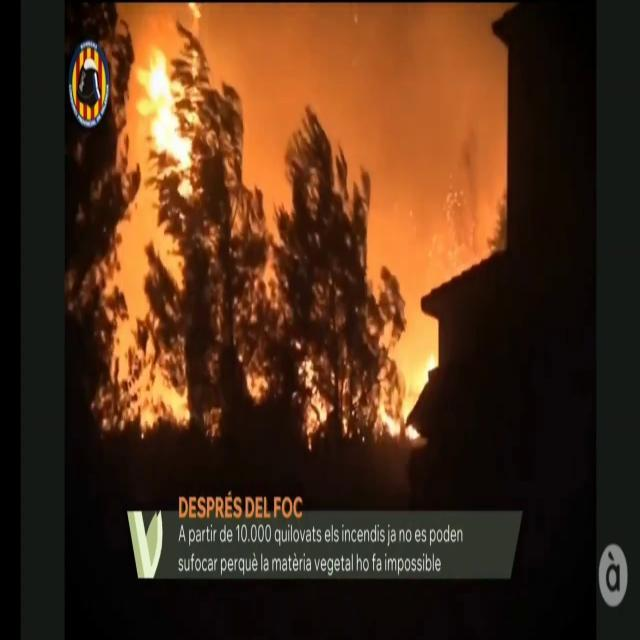Fire: (127, 14, 224, 256), (375, 314, 442, 444)
Smoke: (193, 0, 498, 297)
